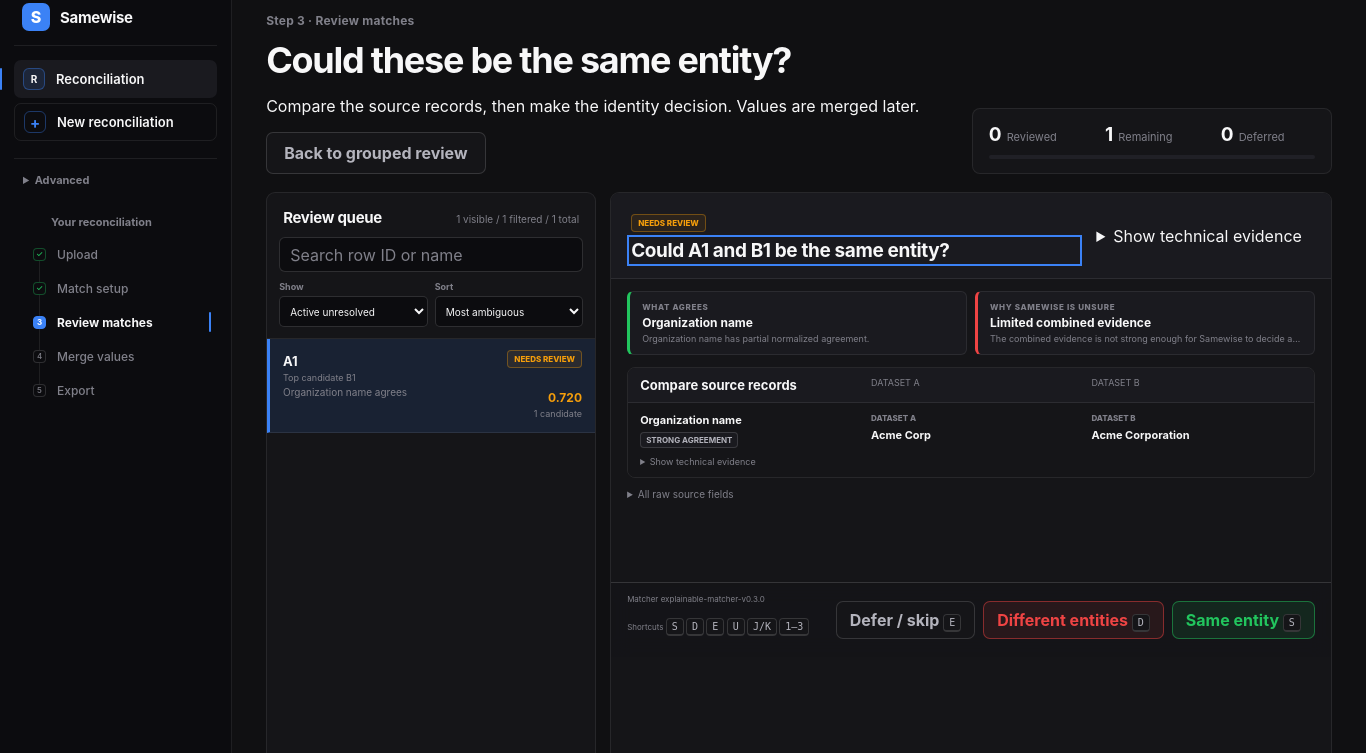
Scenario: Samewise vertical slice › SW-028 refreshes authoritative run after a stale review 409 without retrying the identity decision
The width and height of the screenshot is (1366, 753).
Click the button "Different entities D".
click(1074, 620)  # box [983,601,1164,639]
(page scrolled)
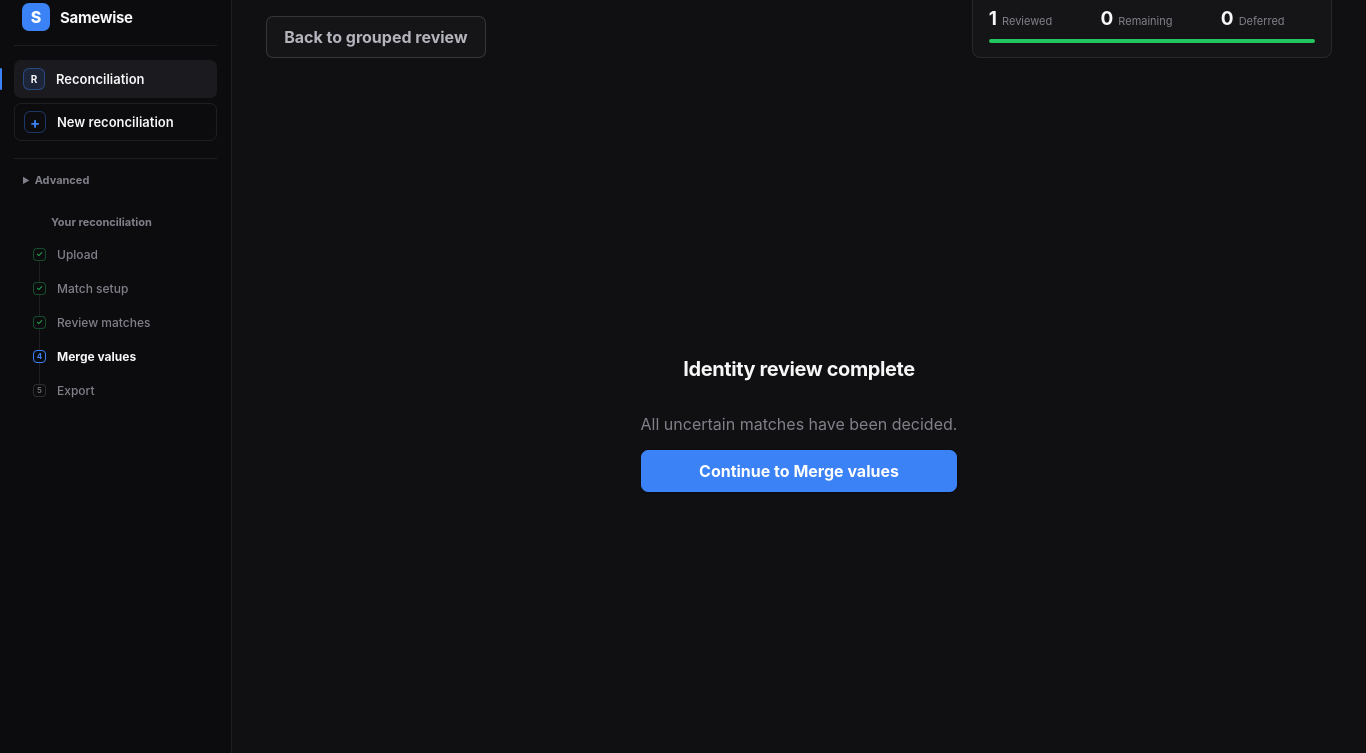
Check: the heading "Identity review complete" is shown, box [683,357,915,381]
